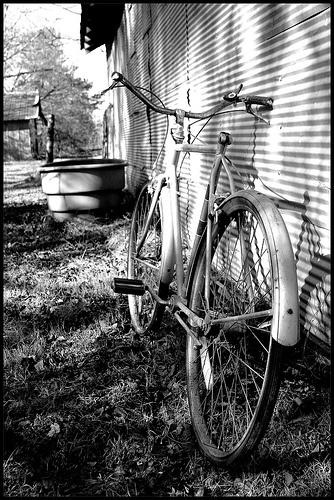bicycle: (92, 72, 305, 473)
